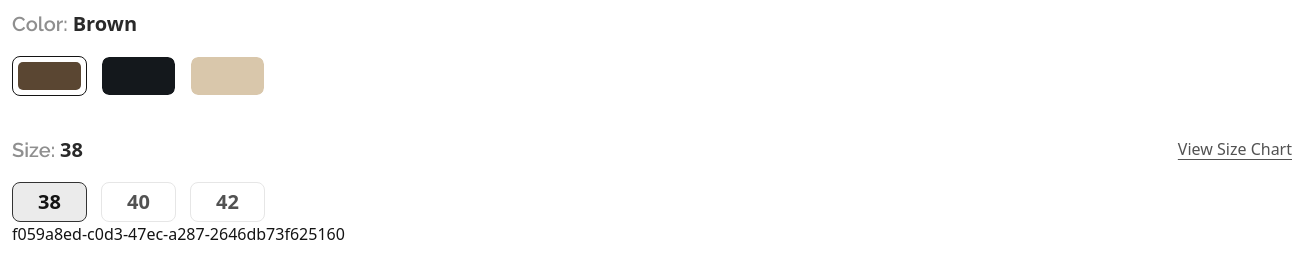
VariantSelector › updates the selection, label and resolved variant when options are clicked
Click the radio button named "Black" at (138, 76), box [101,56,176,96]
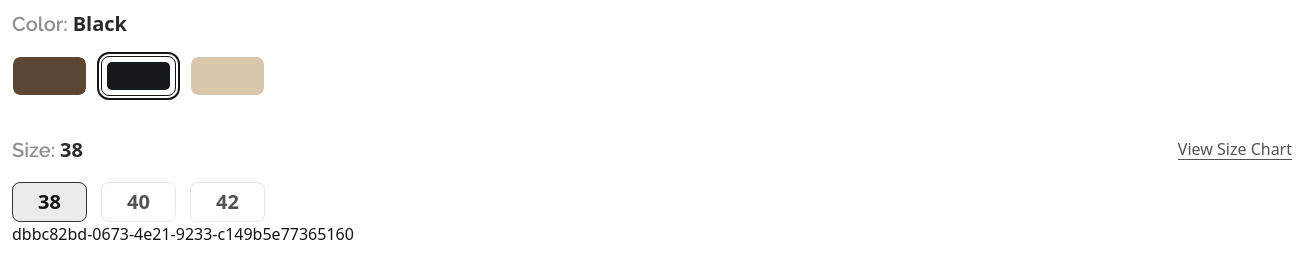
Click the radio button labelled "42" at (228, 202), box [190,182,265,222]
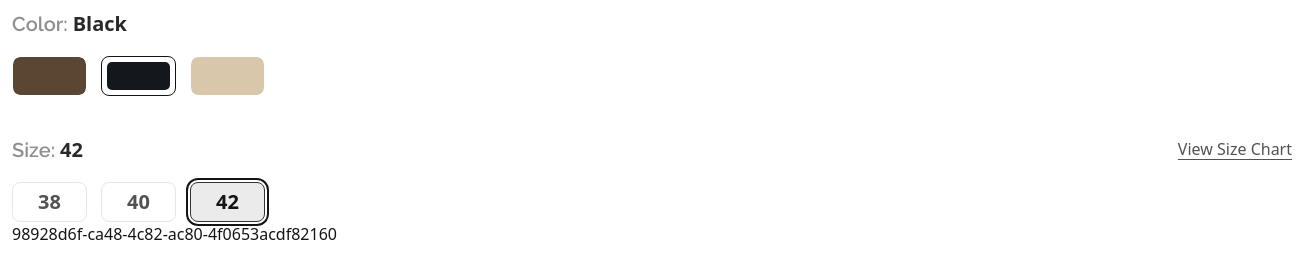
Check: the text "Size: 42" is shown, box [12,136,83,164]
Check: the text with test id "variant" reads "98928d6f-ca48-4c82-ac80-4f0653acdf82", box [12,223,310,245]
